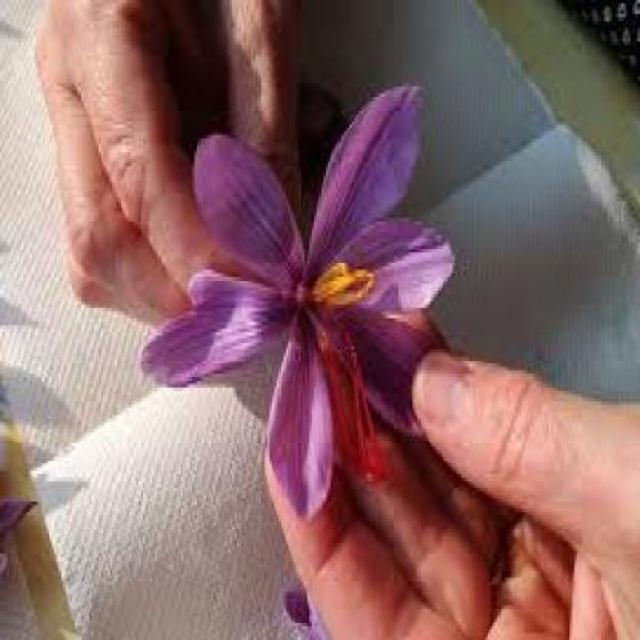Flower: (141, 83, 464, 525)
stigma: (302, 303, 380, 479)
